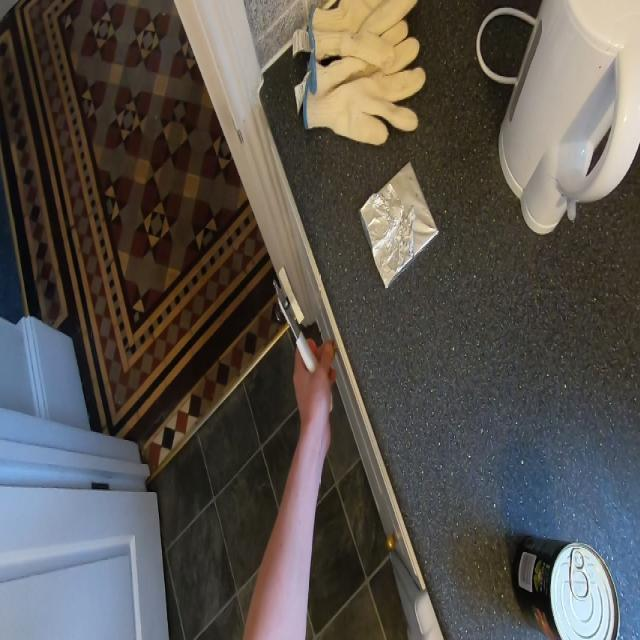can: (512, 513, 628, 640)
can opener: (272, 258, 331, 410)
glove: (289, 0, 430, 158)
kettle: (497, 0, 636, 256)
left hand: (293, 328, 337, 470)
